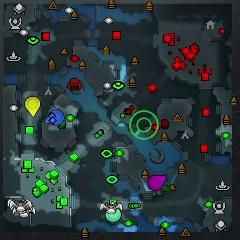p1: (44, 109, 64, 125)
p2: (105, 208, 122, 222)
p3: (148, 174, 167, 190)
p4: (25, 96, 40, 117)
x4: (154, 185, 170, 196)
